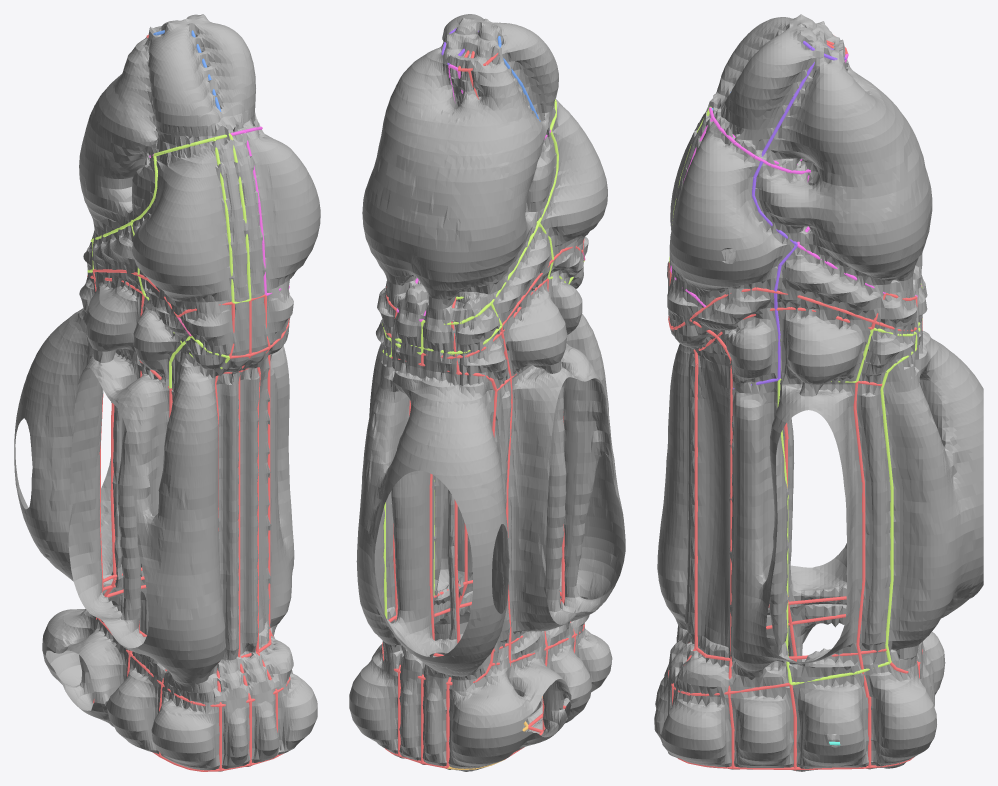
Rendered from flowrep_bottle.gltf.
3 renders of one model, left to right at view 1: azimuth 30°, elevation 25°; view 2: azimuth 150°, elevation 25°; view 3: azimuth 270°, elevation 25°, orthographic. The views are drawn at different scales.
Size of the model in its own units: 0.2576 by 0.9557 by 0.3943.
